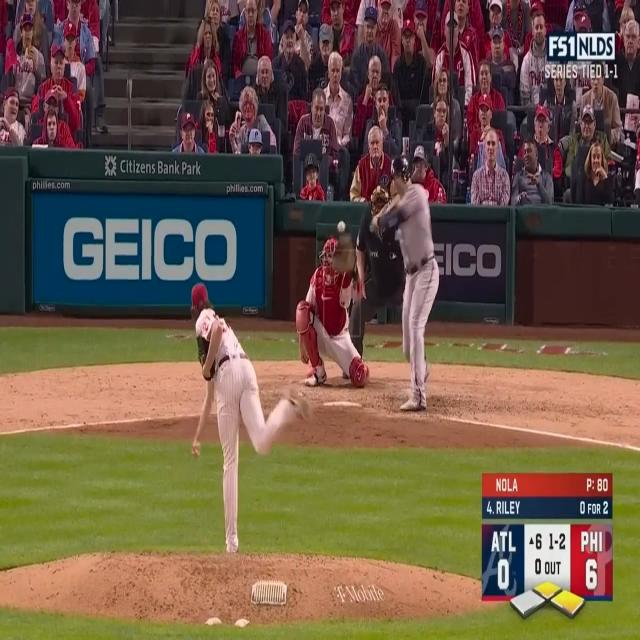baseball: (336, 218, 346, 235)
